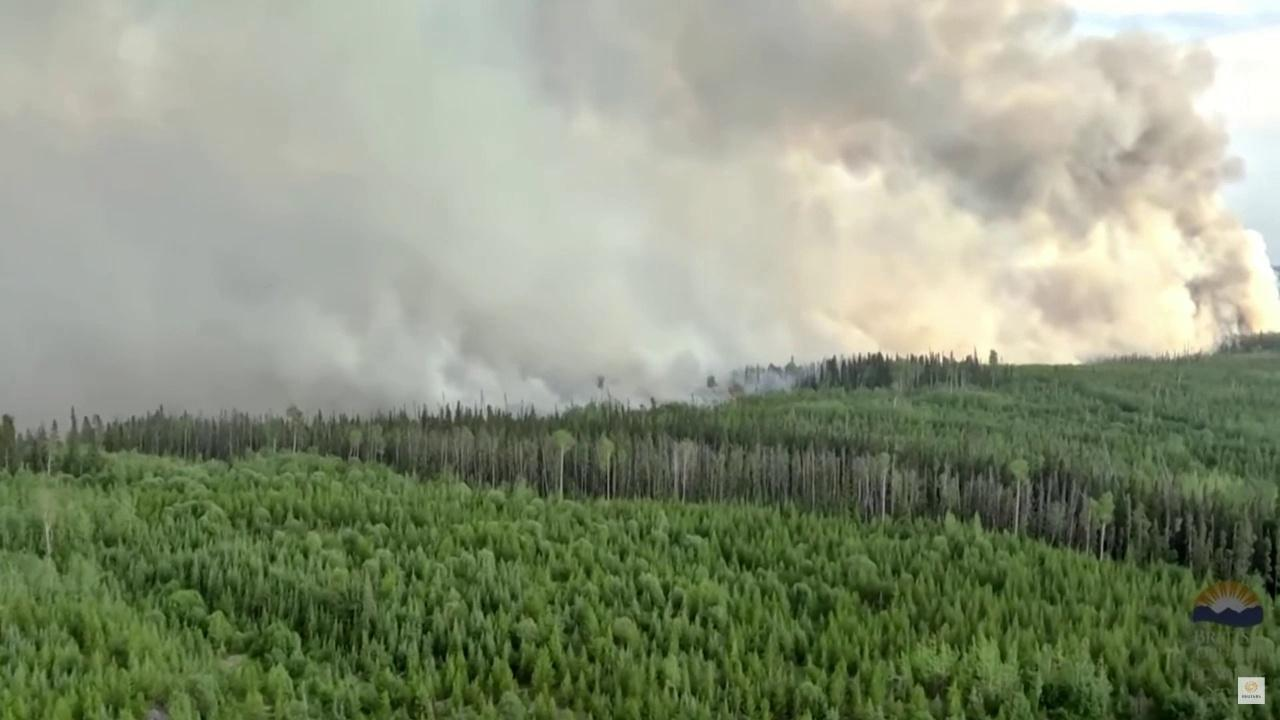smoke: (0, 0, 1280, 437)
